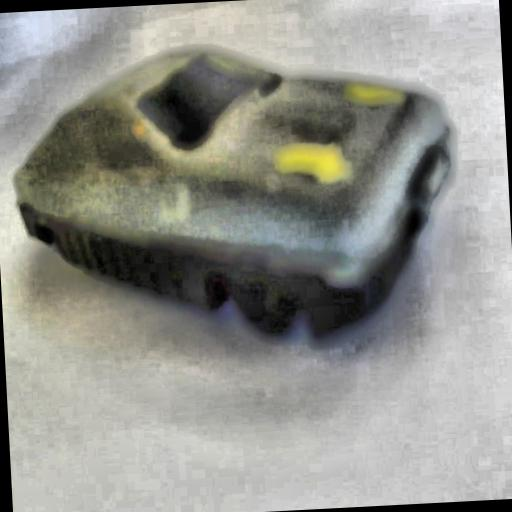normal_car: (1, 30, 466, 360)
